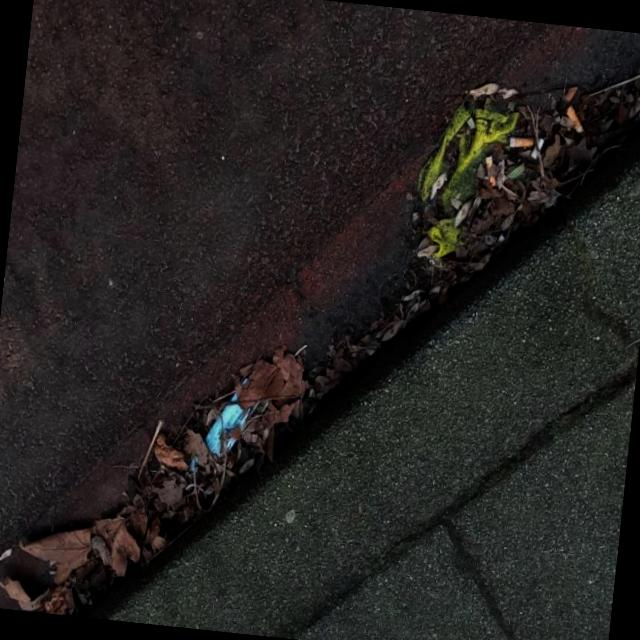Mask: (180, 366, 270, 506)
